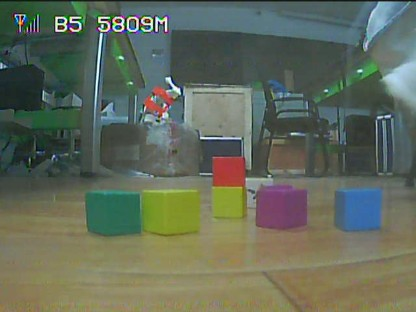b: (336, 188, 380, 227)
g: (89, 191, 139, 232)
r: (214, 157, 243, 183)
